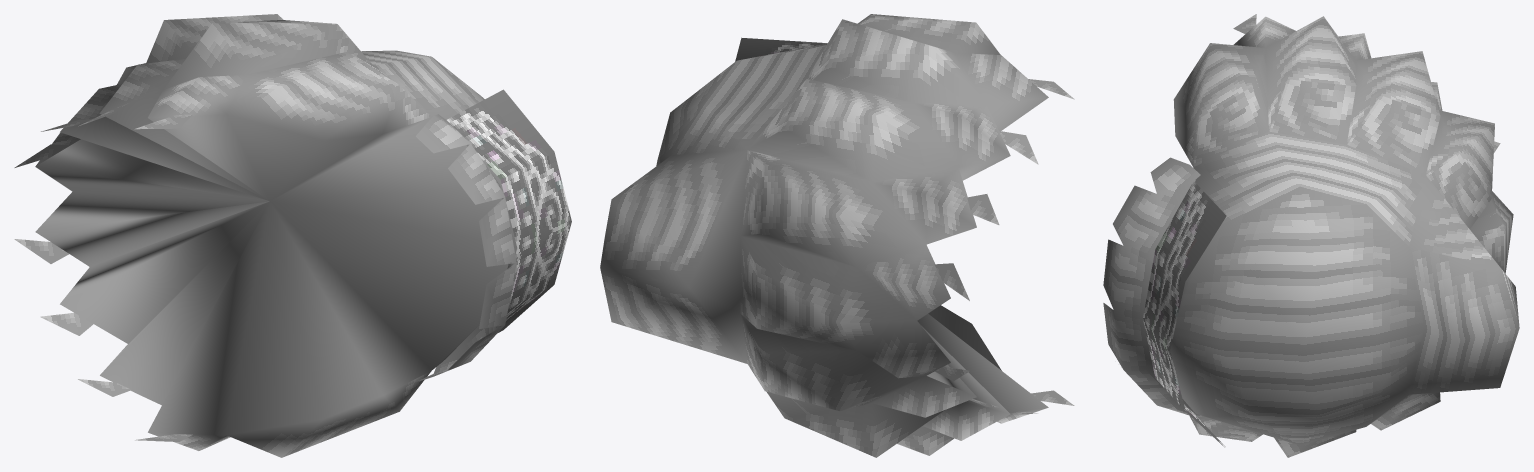
File: hlmt_wig_princess.dae
3 views of the same model, side by side, from view 1: azimuth 30°, elevation 25°; view 2: azimuth 150°, elevation 25°; view 3: azimuth 270°, elevation 25° (orthographic). The views are drawn at different scales.
Visible parts, largest first — view 1: hlmt_wig_princess; view 2: hlmt_wig_princess; view 3: hlmt_wig_princess.
Part boxes in pixels (bbox=[...]): hlmt_wig_princess: bbox=[14, 14, 571, 457]; hlmt_wig_princess: bbox=[600, 14, 1074, 457]; hlmt_wig_princess: bbox=[1103, 14, 1519, 457].
Size of the model in its own units: 29.14 by 28.76 by 26.86.
2 materials, 2 textured.
